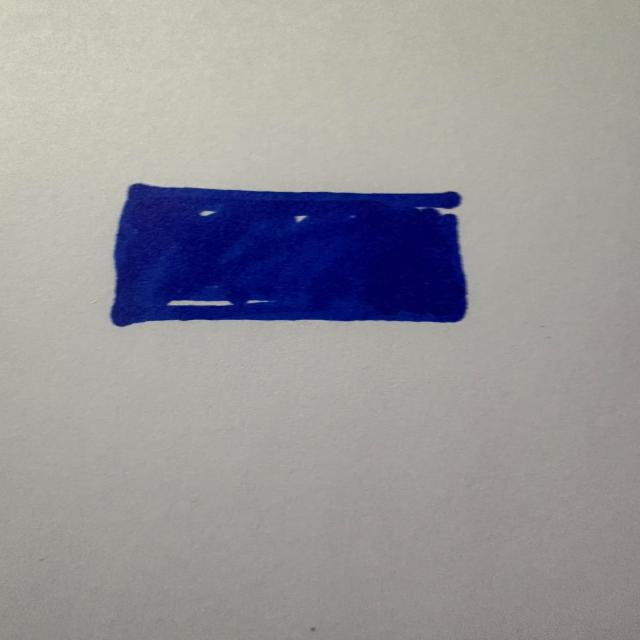Rectangle: (110, 183, 469, 327)
